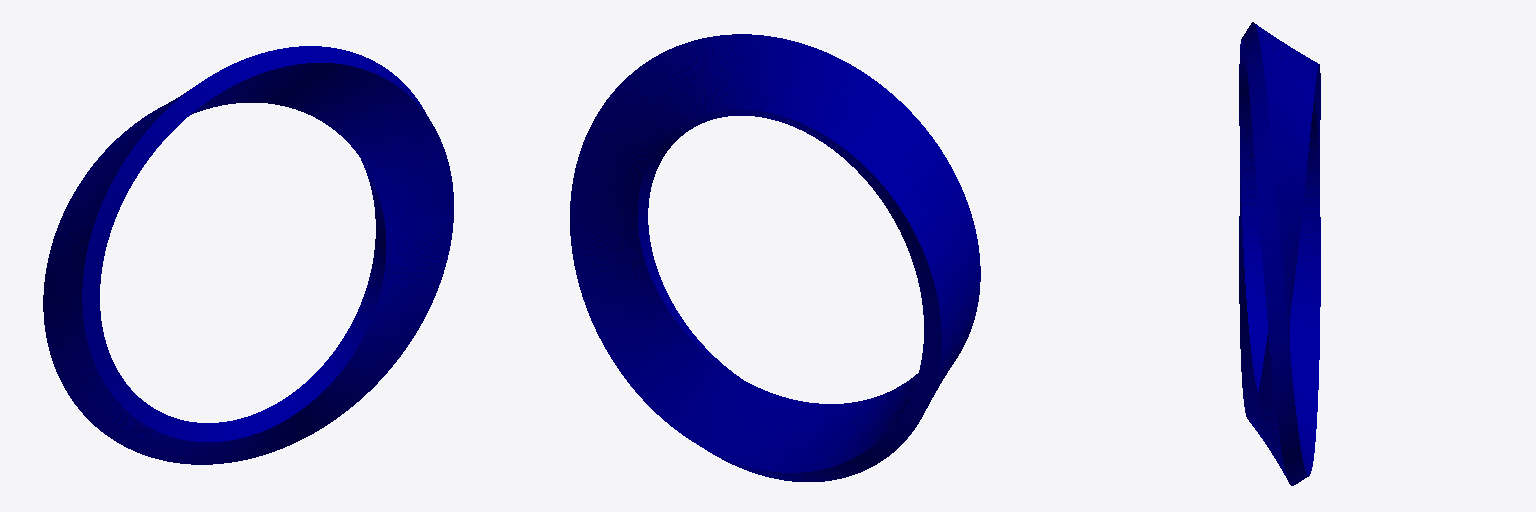
The model's file is mobius_I_smooth.obj.
3 renders of one model, left to right at view 1: azimuth 30°, elevation 25°; view 2: azimuth 150°, elevation 25°; view 3: azimuth 270°, elevation 25°, orthographic.
Visible parts, largest first — view 1: OpenSCAD_Model; view 2: OpenSCAD_Model; view 3: OpenSCAD_Model.
Boxes of the visible parts, x1=… form: OpenSCAD_Model: x1=43, y1=46, x2=453, y2=464; OpenSCAD_Model: x1=570, y1=34, x2=980, y2=481; OpenSCAD_Model: x1=1239, y1=22, x2=1320, y2=485.
Bounding box in the file's own units: 113 × 118 × 20.61.